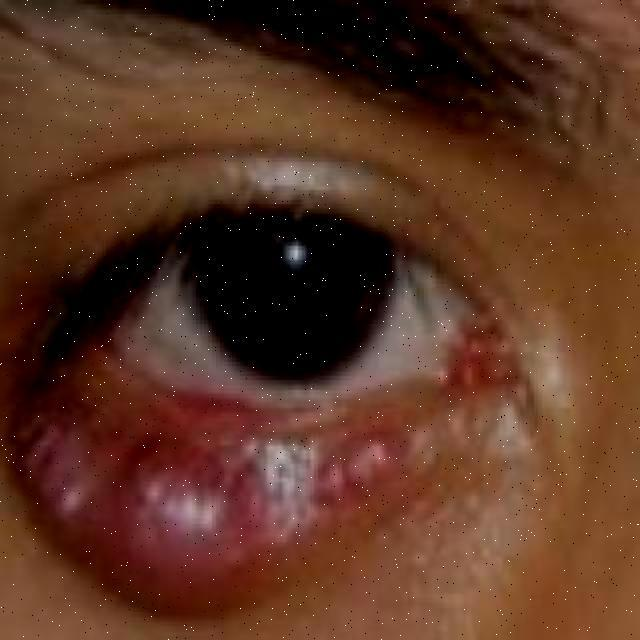Stye: (24, 358, 424, 624)
